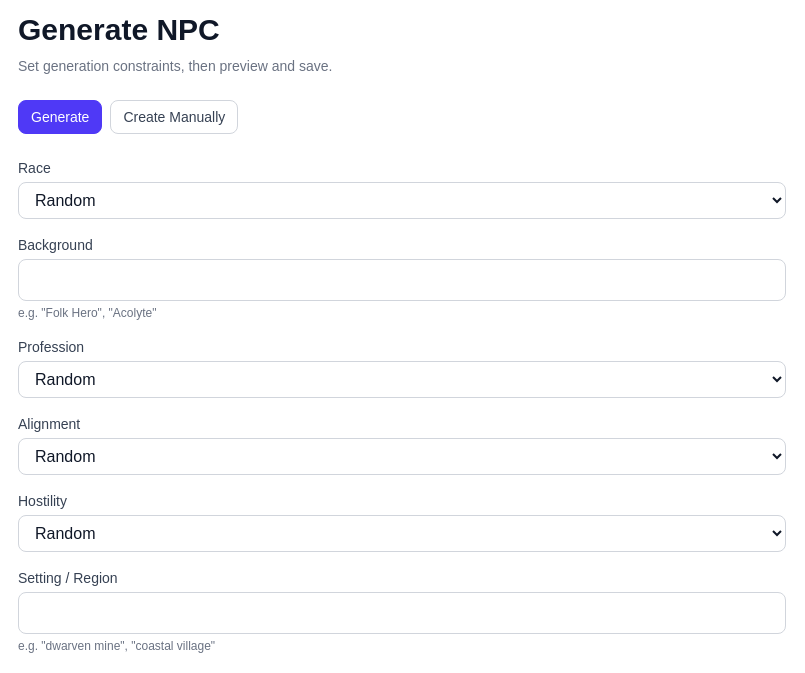
NewNpcPage › shows free-text profession input when "Other" is selected
Select "Other…" in the dropdown labelled "Profession" at (402, 380), box x1=18 y1=361 x2=786 y2=398
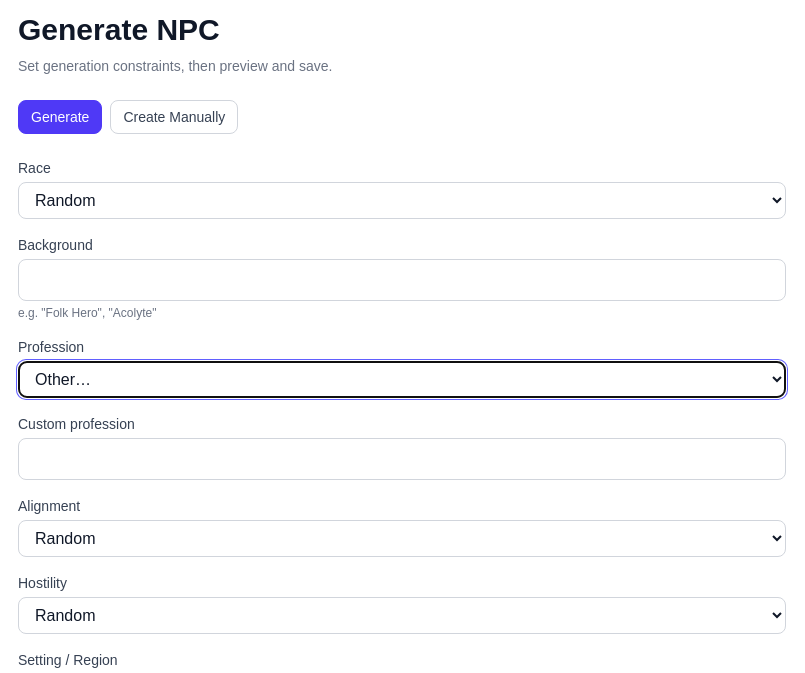
Check: the field labelled "Custom profession" is shown, box x1=18 y1=438 x2=786 y2=480
